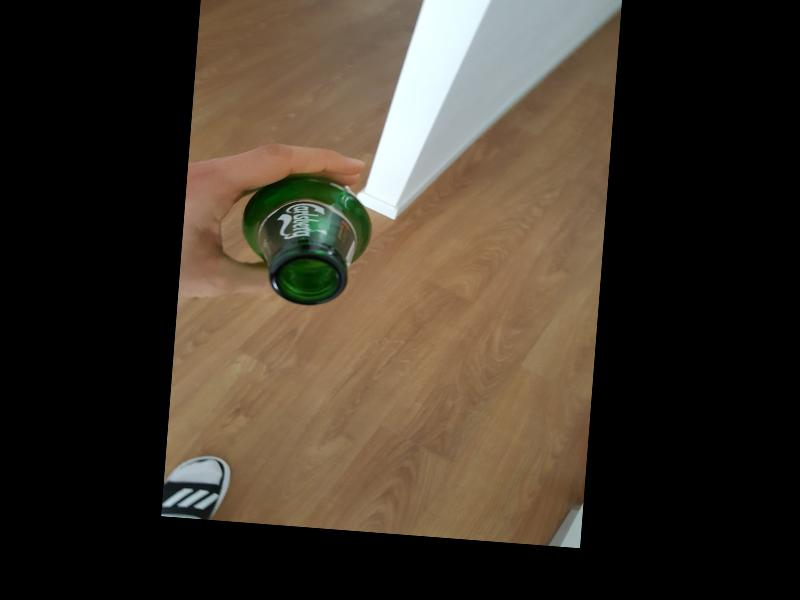Beer: (233, 170, 375, 309)
